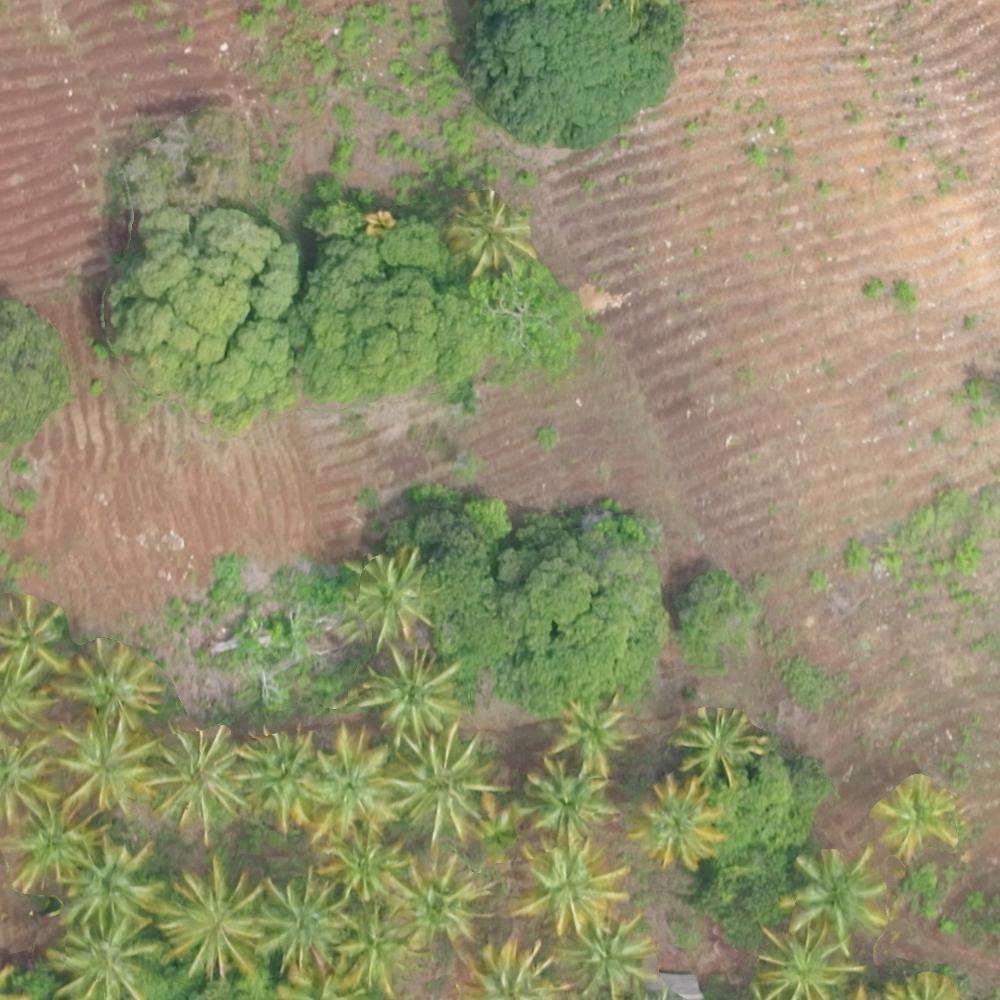Palm: (160, 862, 261, 977), (145, 726, 250, 833), (397, 730, 491, 839), (511, 841, 625, 930), (361, 648, 464, 740), (381, 848, 480, 943), (310, 727, 396, 835), (786, 854, 885, 945), (61, 840, 155, 933), (48, 918, 155, 999), (60, 727, 157, 813), (242, 732, 324, 831), (254, 876, 341, 969), (5, 805, 92, 896), (518, 761, 611, 844), (66, 641, 155, 726), (753, 923, 850, 1000), (675, 702, 766, 783), (448, 194, 540, 274), (341, 556, 424, 643), (637, 779, 720, 864), (461, 933, 564, 1000), (874, 775, 959, 855), (568, 921, 658, 994), (334, 907, 412, 991), (313, 831, 401, 905), (1, 597, 74, 684), (548, 699, 629, 769)
